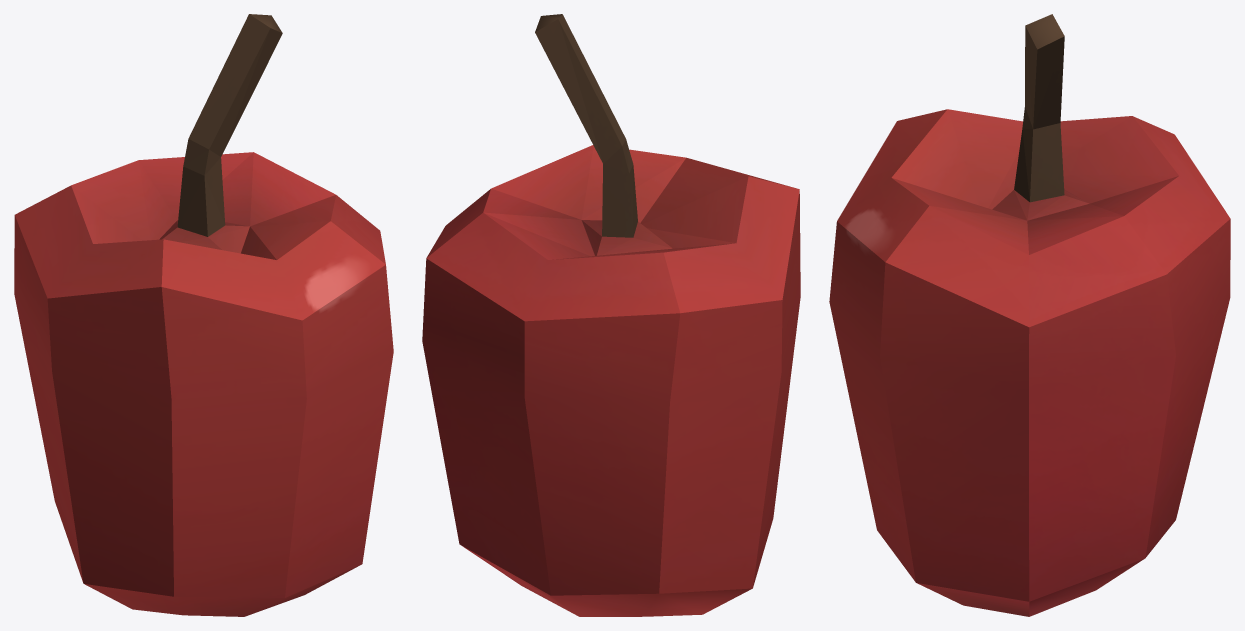
The model's file is food_bellpepper.FBX.
3 renders of one model, left to right at view 1: azimuth 30°, elevation 25°; view 2: azimuth 150°, elevation 25°; view 3: azimuth 270°, elevation 25°, orthographic. The views are drawn at different scales.
Visible parts, largest first — view 1: food_bellpepper; view 2: food_bellpepper; view 3: food_bellpepper.
Boxes of the visible parts, left/top/right/bottom form: food_bellpepper: left=14, top=14, right=393, bottom=616; food_bellpepper: left=422, top=14, right=800, bottom=616; food_bellpepper: left=829, top=14, right=1230, bottom=616.
Size of the model in its own units: 92.74 by 149 by 92.51.
